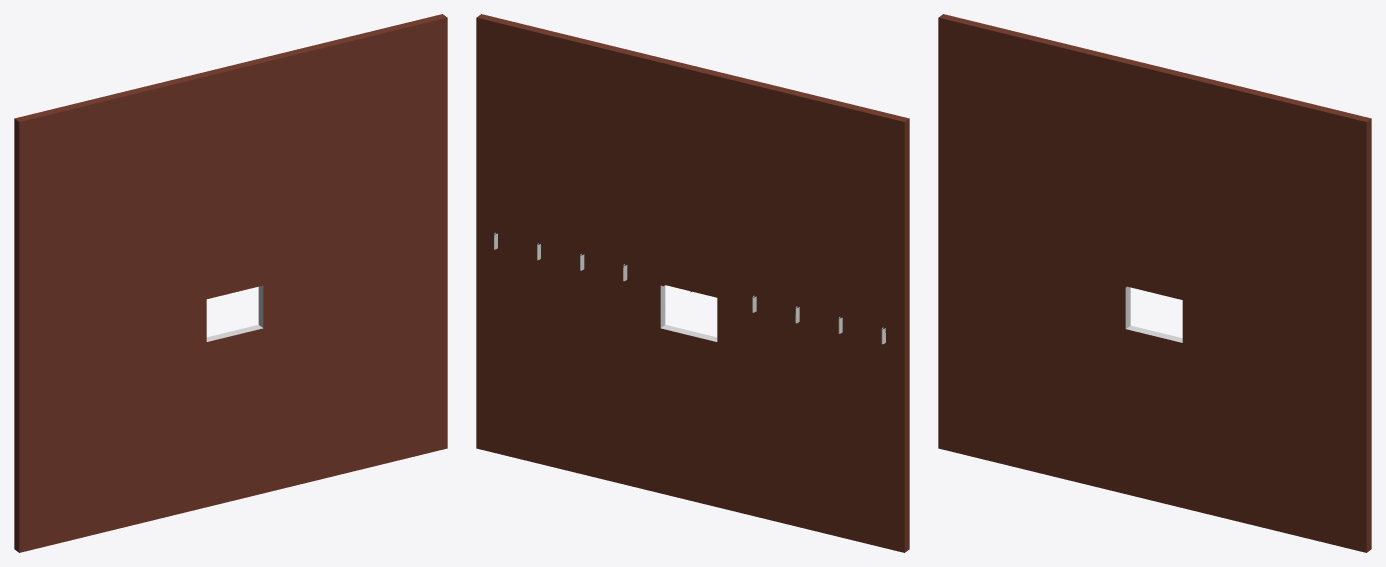
The model's file is lib_endwall.fbx.
3 views of the same model, side by side, from view 1: azimuth 30°, elevation 25°; view 2: azimuth 150°, elevation 25°; view 3: azimuth 330°, elevation 25° (orthographic).
Parts seen in each view (by area): view 1: MalloditeLightPillar3.002; view 2: MalloditeLightPillar3.002; view 3: MalloditeLightPillar3.002.
Part boxes in pixels (bbox=[...]): MalloditeLightPillar3.002: bbox=[14, 14, 447, 552]; MalloditeLightPillar3.002: bbox=[476, 14, 909, 552]; MalloditeLightPillar3.002: bbox=[938, 14, 1371, 552].
Size of the model in its own units: 10897 by 10479 by 348.
